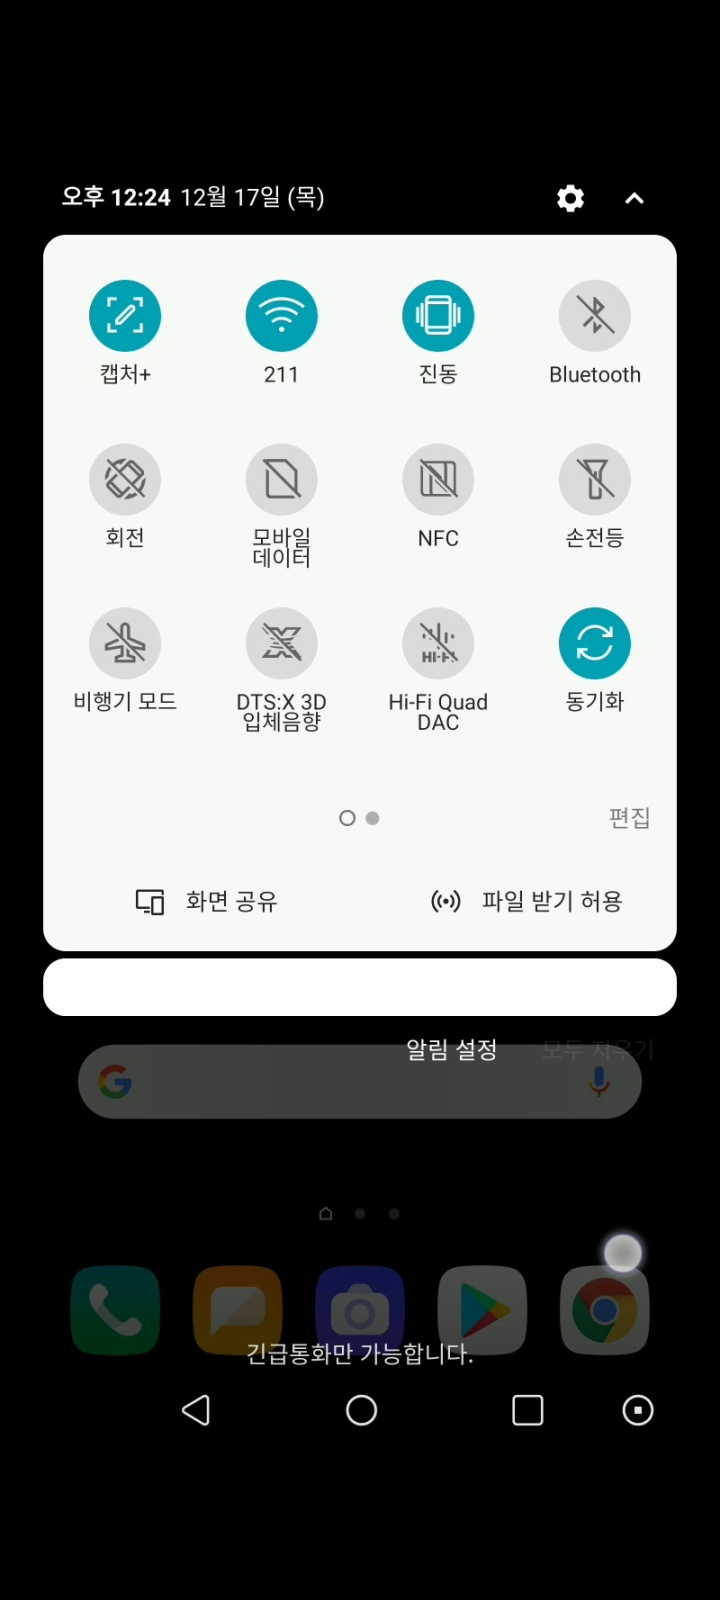Cursor: (601, 1230, 646, 1276)
